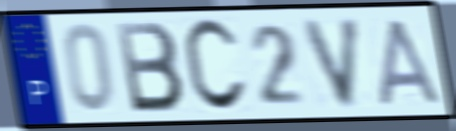0: (60, 20, 117, 117)
2: (250, 21, 307, 108)
A: (377, 16, 444, 107)
B: (113, 20, 187, 116)
C: (181, 16, 251, 116)
V: (299, 15, 365, 111)
